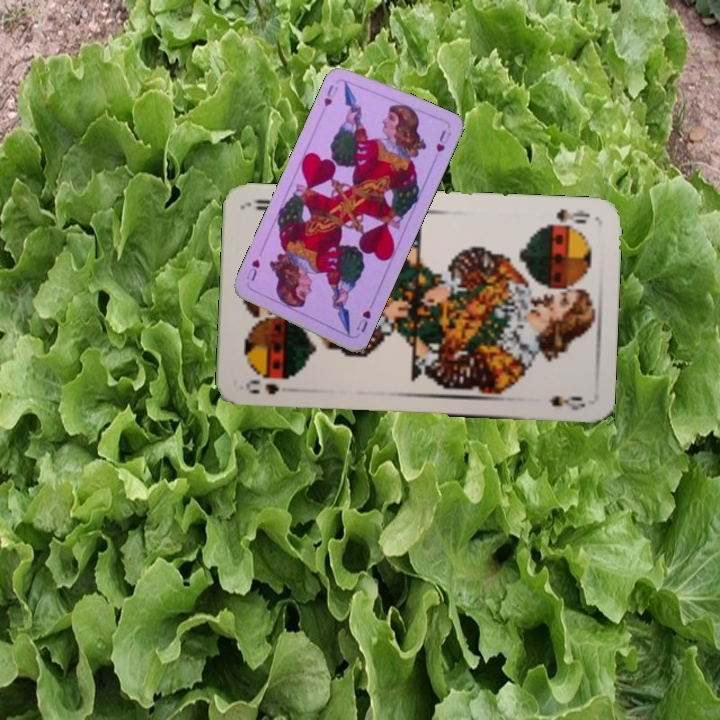HU: (352, 306, 374, 335), (320, 81, 336, 109)
SO: (542, 204, 592, 230), (241, 376, 282, 397)
